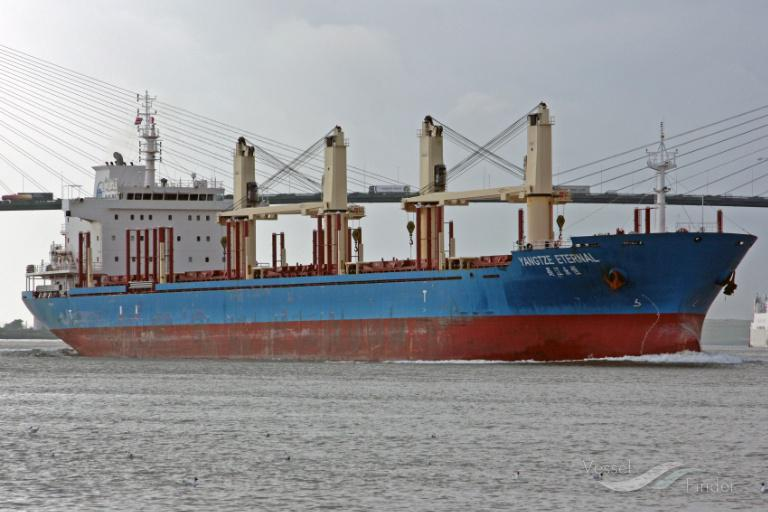OCR: (511, 249, 601, 270)
